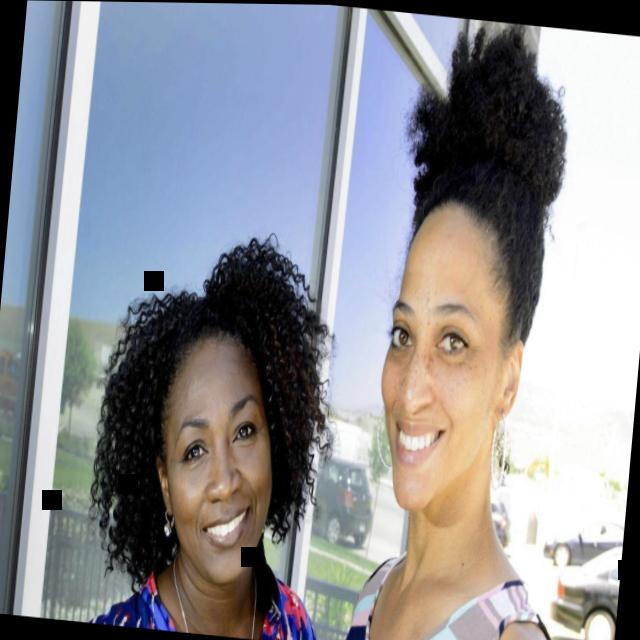NO-Mask: (370, 195, 515, 517), (150, 335, 286, 586)
